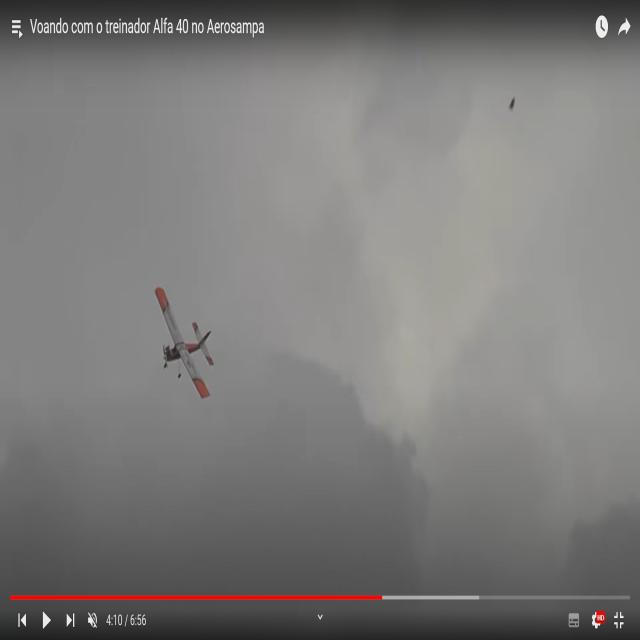iha: (155, 319, 215, 368)
